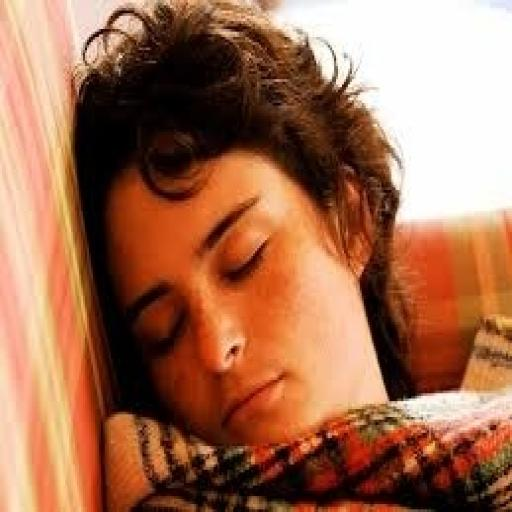sleeping: (67, 0, 510, 509)
